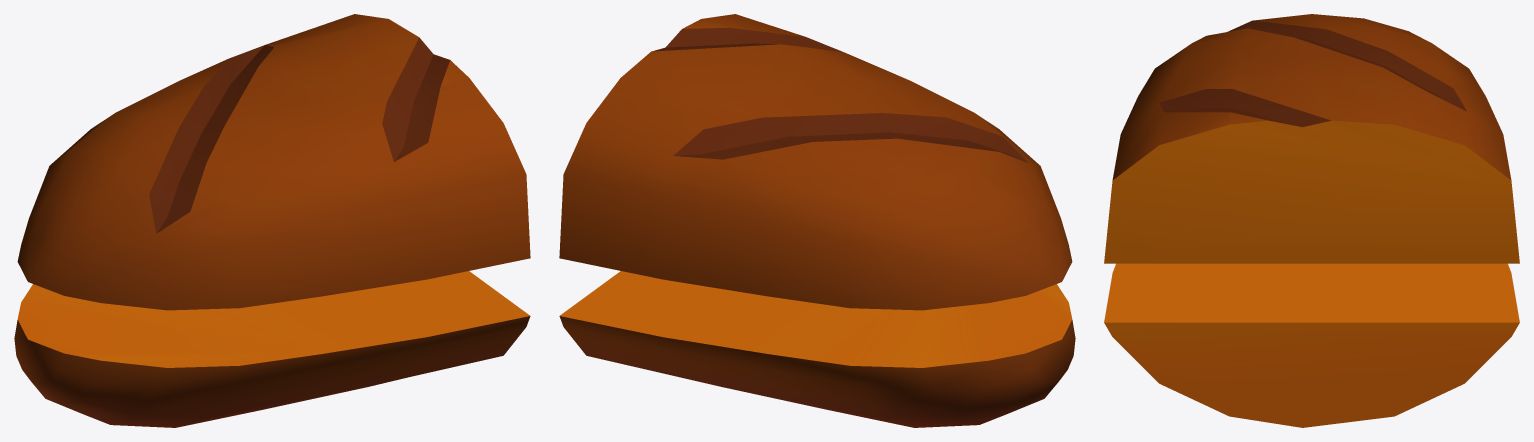
Rendered from Sandwich_Loaf_top_half.004.fbx.
The picture shows the model from 3 angles, left to right: view 1: azimuth 30°, elevation 25°; view 2: azimuth 150°, elevation 25°; view 3: azimuth 270°, elevation 25°; orthographic projection. The views are drawn at different scales.
Parts seen in each view (by area): view 1: Sandwich_Loaf_top_half.004, Sandwich_Loaf_Bottom_half.004; view 2: Sandwich_Loaf_top_half.004, Sandwich_Loaf_Bottom_half.004; view 3: Sandwich_Loaf_top_half.004, Sandwich_Loaf_Bottom_half.004.
Part boxes in pixels (<box>): Sandwich_Loaf_top_half.004: <box>17,14,530,310</box>; Sandwich_Loaf_Bottom_half.004: <box>14,271,530,427</box>; Sandwich_Loaf_top_half.004: <box>559,14,1072,310</box>; Sandwich_Loaf_Bottom_half.004: <box>559,271,1075,427</box>; Sandwich_Loaf_top_half.004: <box>1104,14,1519,263</box>; Sandwich_Loaf_Bottom_half.004: <box>1104,263,1519,427</box>.
Size of the model in its own units: 85.77 by 61.42 by 75.14.
